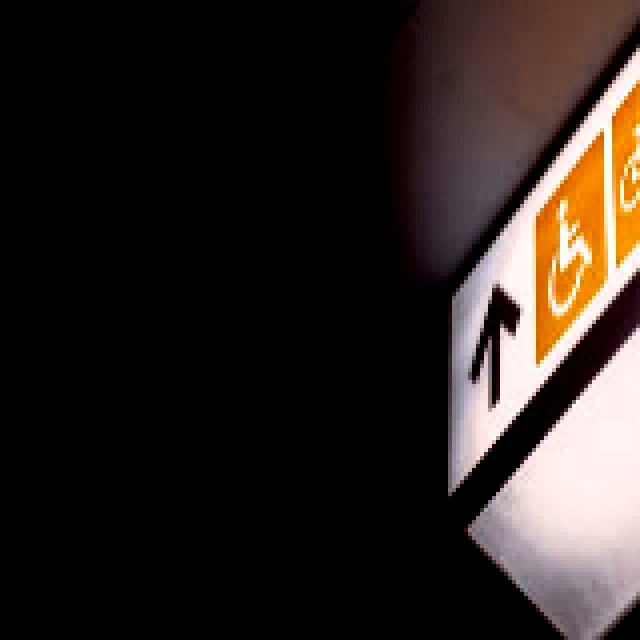ISA: (544, 198, 590, 315)
